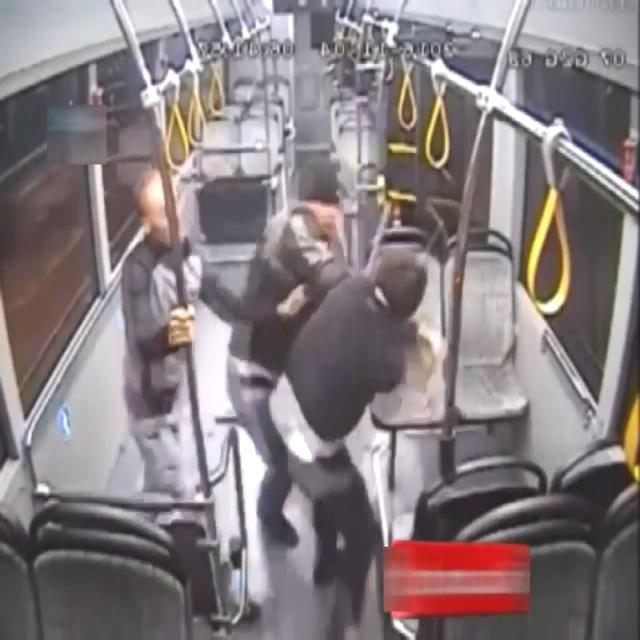fight: (236, 146, 427, 640)
